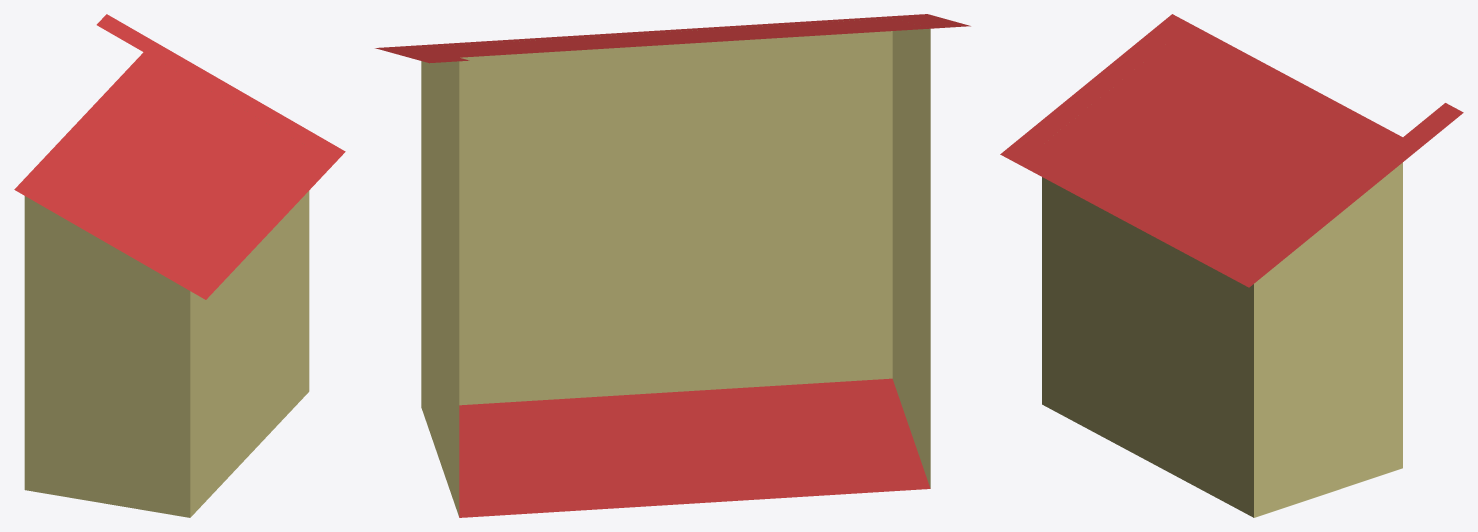
The picture shows the model from 3 angles, left to right: view 1: azimuth 30°, elevation 25°; view 2: azimuth 150°, elevation 25°; view 3: azimuth 270°, elevation 25°; orthographic projection. The views are drawn at different scales.
Size of the model in its own units: 7.57 by 7.78 by 6.51.
